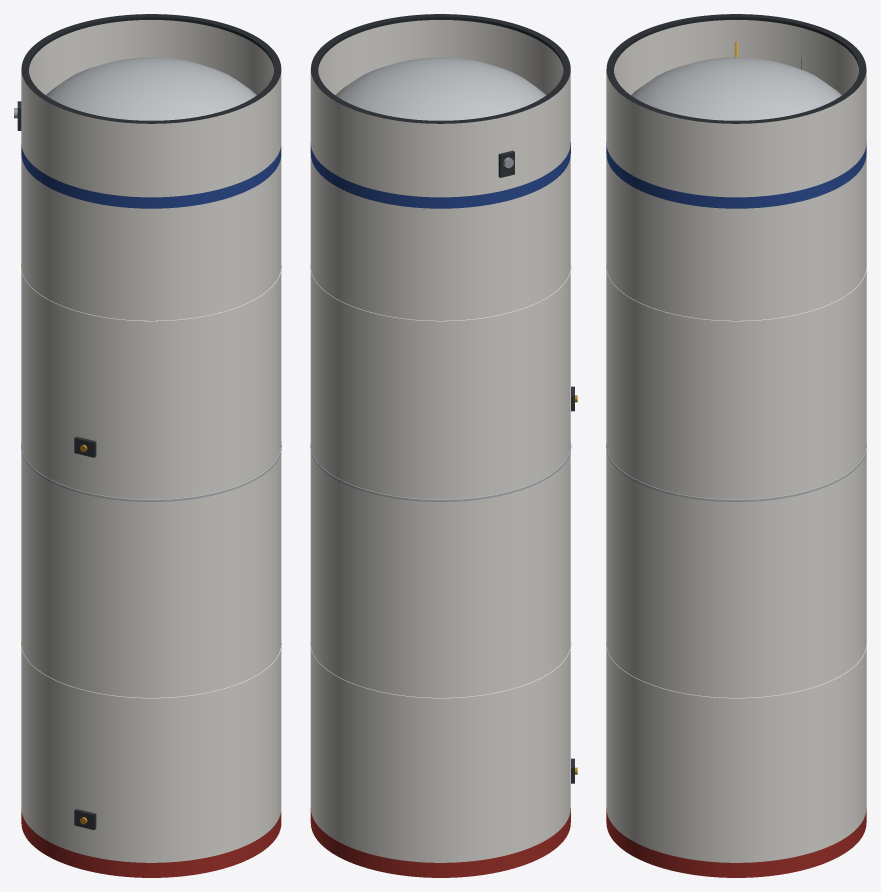
File: pslv_ps2.glb
3 renders of one model, left to right at view 1: azimuth 30°, elevation 25°; view 2: azimuth 150°, elevation 25°; view 3: azimuth 270°, elevation 25°, orthographic.
Parts seen in each view (by area): view 1: shell, inner, frames, detail; view 2: shell, inner, frames, detail; view 3: shell, inner, frames, detail.
Boxes of the visible parts, x1=… form: shell: x1=21, y1=14, x2=281, y2=877; inner: x1=46, y1=57, x2=256, y2=120; frames: x1=21, y1=14, x2=281, y2=123; detail: x1=14, y1=101, x2=281, y2=829; shell: x1=310, y1=14, x2=570, y2=877; inner: x1=335, y1=57, x2=545, y2=120; frames: x1=311, y1=14, x2=570, y2=123; detail: x1=310, y1=150, x2=577, y2=783; shell: x1=606, y1=14, x2=866, y2=877; inner: x1=631, y1=57, x2=841, y2=120; frames: x1=606, y1=14, x2=866, y2=123; detail: x1=606, y1=57, x2=866, y2=699.
Bounding box in the file's own units: 2.51 × 8 × 2.51.
